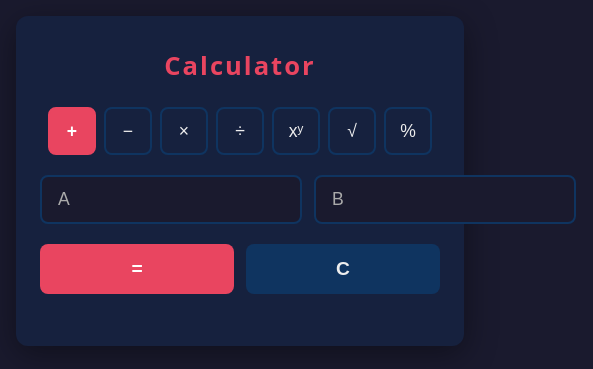
Test case: Calculator › shows only one input for sqrt (unary)
Click the button named "sqrt". click: click(352, 131)
box: top-left (328, 107), bottom-right (376, 155)
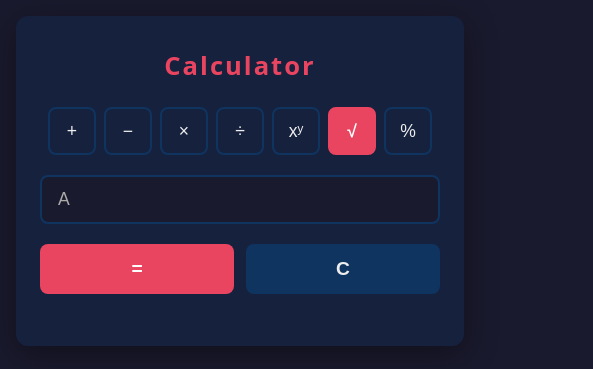
Expected: the number field named "operand-a" is shown, top-left (40, 175), bottom-right (440, 224)
Expected: the number field labelled "operand-b" is gone
